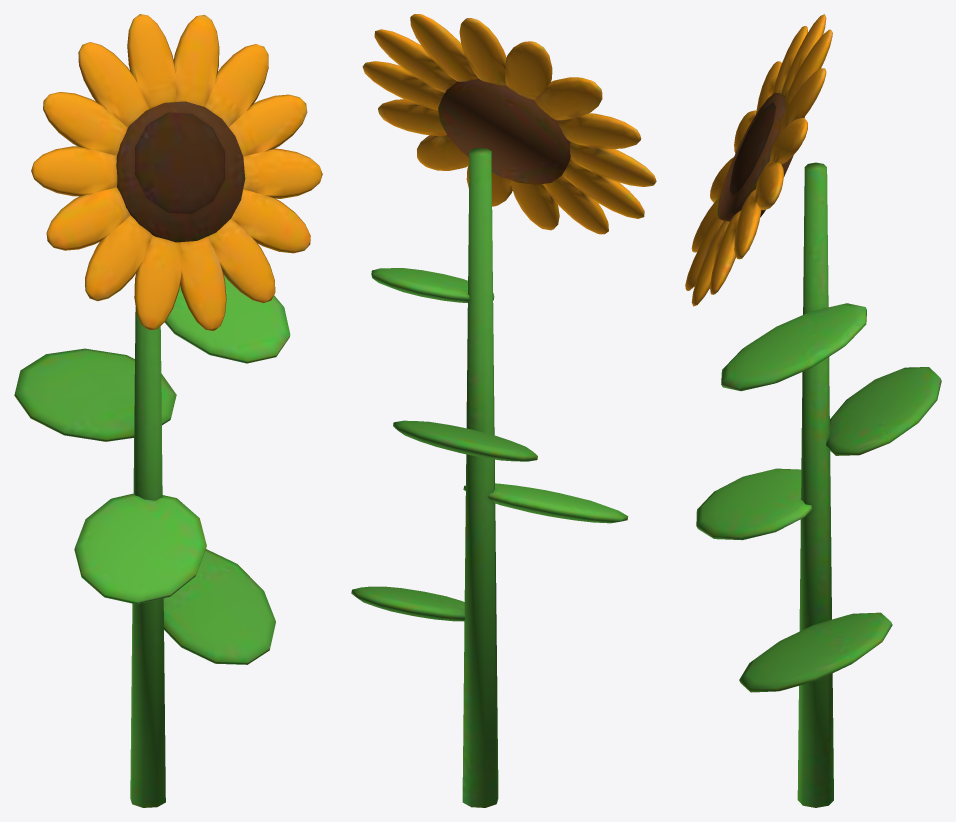
The model's file is crop_marigold.glb.
The picture shows the model from 3 angles, left to right: view 1: azimuth 30°, elevation 25°; view 2: azimuth 150°, elevation 25°; view 3: azimuth 270°, elevation 25°; orthographic projection. The views are drawn at different scales.
Parts seen in each view (by area): view 1: crop_marigold, fruit; view 2: crop_marigold, fruit; view 3: crop_marigold, fruit.
Boxes of the visible parts, x1,y1,x2,y2 form: crop_marigold: [14, 101, 290, 807]; fruit: [31, 14, 322, 331]; crop_marigold: [351, 79, 628, 807]; fruit: [362, 14, 656, 234]; crop_marigold: [696, 92, 941, 807]; fruit: [685, 14, 832, 306].
Bounding box in the file's own units: 0.2242 × 0.6079 × 0.1837.
1 material, 1 textured.
